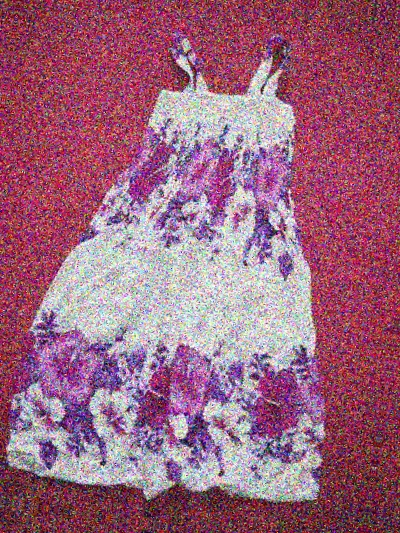Dress: (0, 9, 400, 531), (0, 519, 324, 533), (398, 74, 400, 533)
